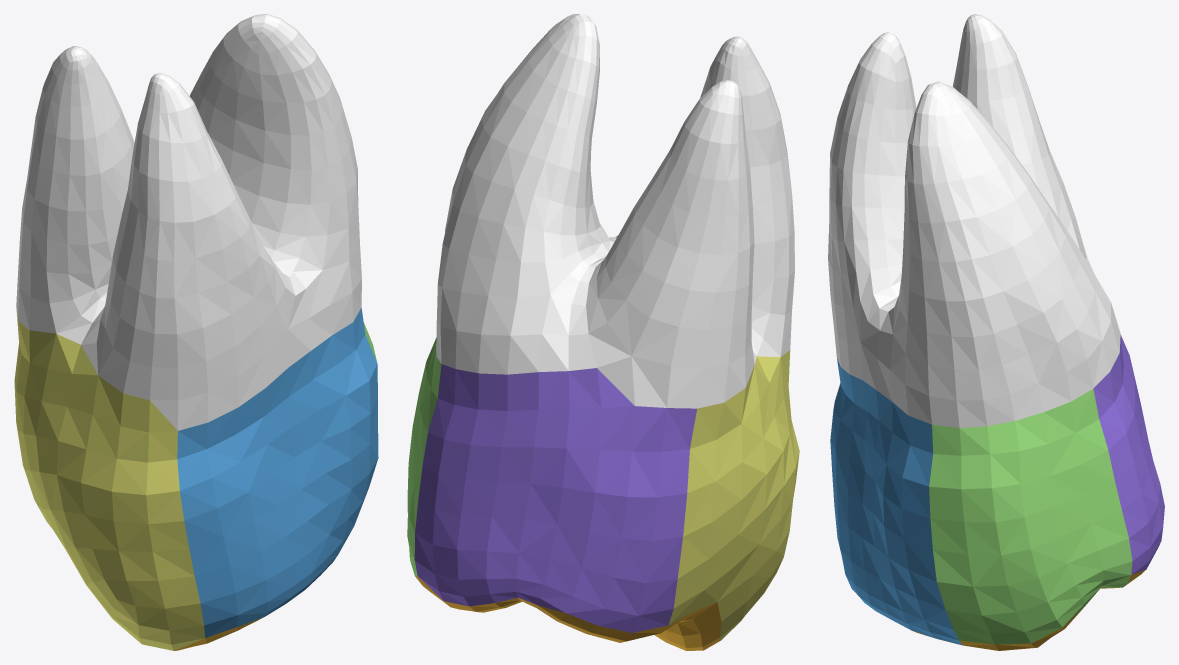
The model's file is tooth_17_annotated.glb.
3 renders of one model, left to right at view 1: azimuth 30°, elevation 25°; view 2: azimuth 150°, elevation 25°; view 3: azimuth 270°, elevation 25°, orthographic. The views are drawn at different scales.
Visible parts, largest first — view 1: FDI_17; view 2: FDI_17; view 3: FDI_17.
Boxes of the visible parts, x1=… form: FDI_17: x1=14, y1=14, x2=378, y2=650; FDI_17: x1=407, y1=14, x2=799, y2=650; FDI_17: x1=828, y1=14, x2=1164, y2=650.
Size of the model in its own units: 0.00897 by 0.0154 by 0.00832.
